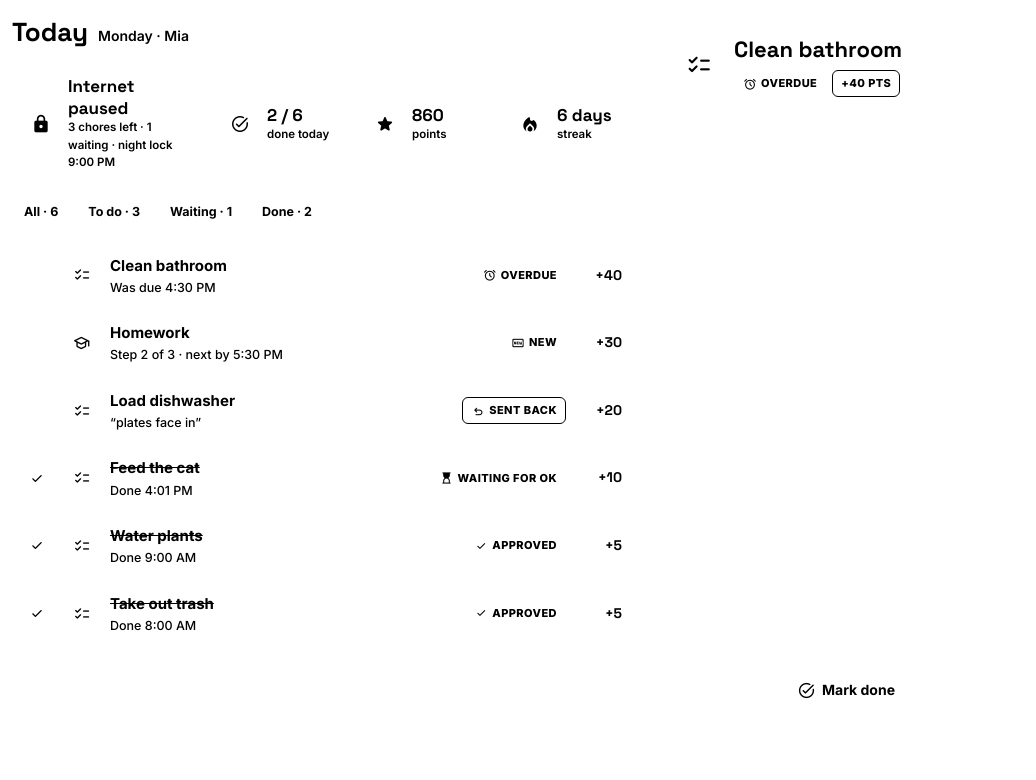
Test: TeenMode › step time chip is short (no AM/PM)
Click the button "Homework Step 2 of 3 · next by 5:30 PM New +30". click: (150, 333)
box: [12,309,636,377]
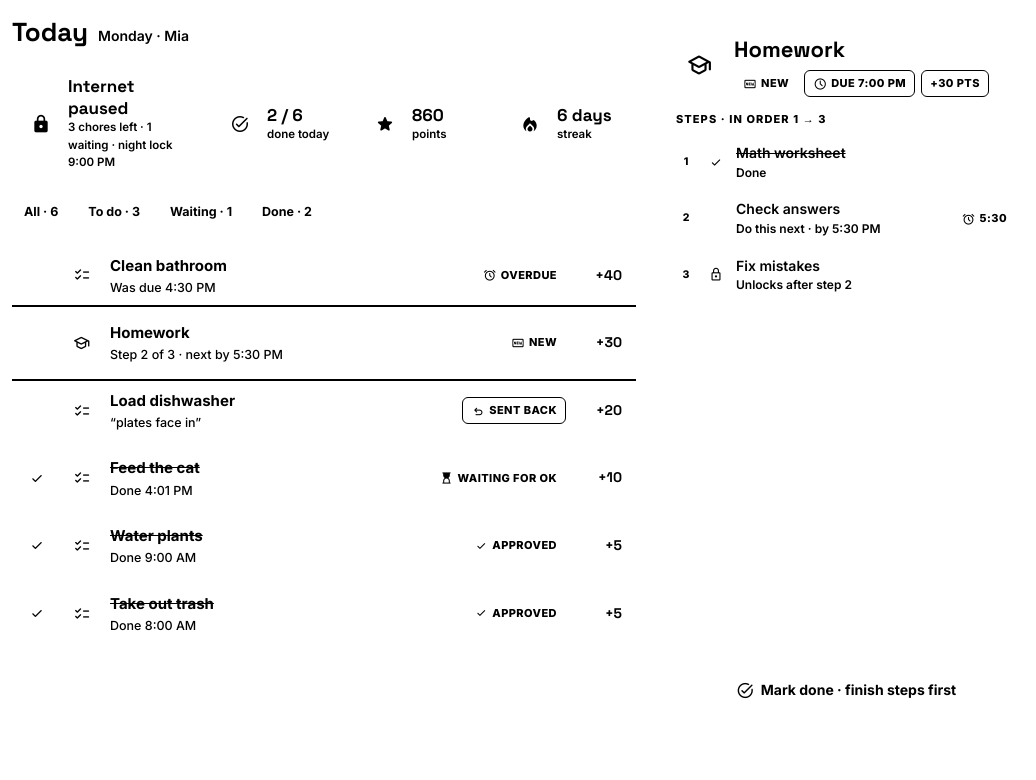
Now the text "5:30" is shown, box [962,211,1007,227]
